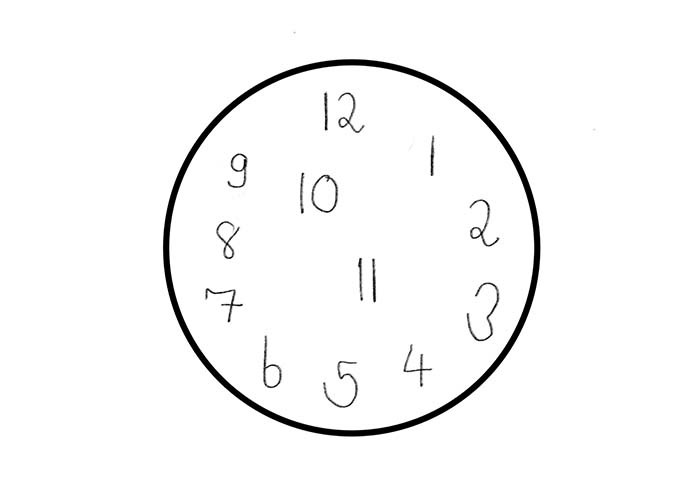eight: (212, 217, 239, 261)
eleven: (353, 250, 380, 303)
five: (318, 356, 362, 411)
four: (398, 341, 433, 389)
nine: (222, 149, 251, 193)
one: (427, 129, 440, 182)
seven: (203, 284, 244, 324)
six: (257, 331, 284, 392)
ten: (297, 164, 338, 219)
three: (463, 275, 500, 343)
twelve: (319, 84, 366, 135)
two: (465, 191, 503, 249)
